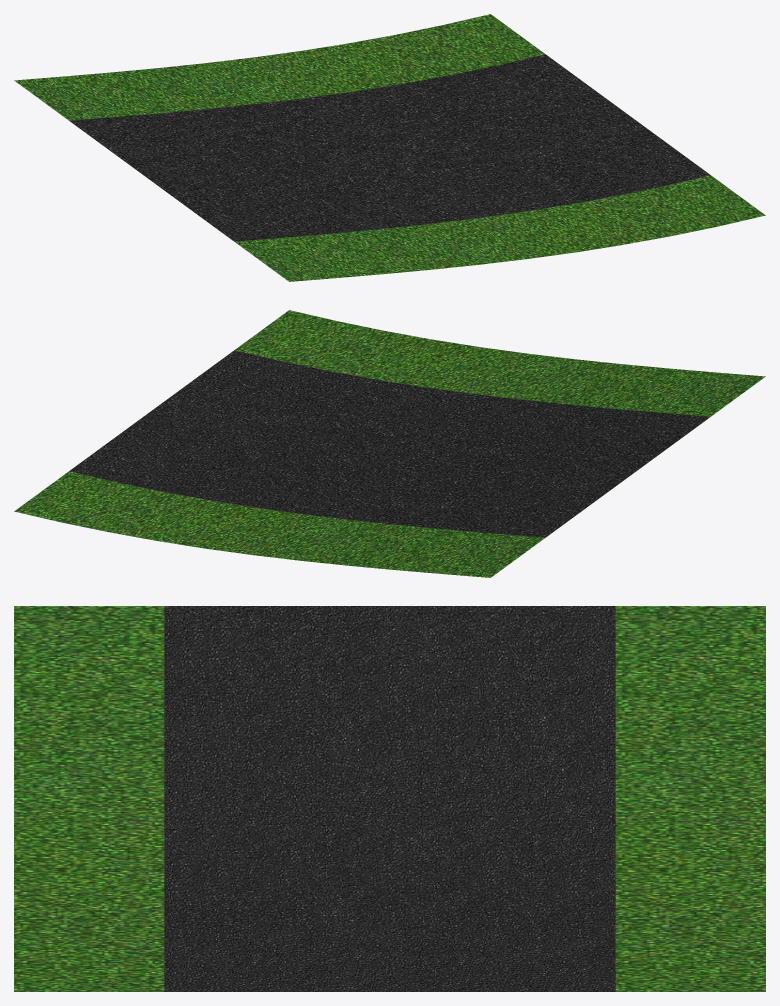
Rendered from track_ramp.obj.
3 renders of one model, top to bottom at view 1: azimuth 30°, elevation 25°; view 2: azimuth 150°, elevation 25°; view 3: azimuth 270°, elevation 25°, orthographic. The views are drawn at different scales.
Visible parts, largest first — view 1: Road_Plane.002, Grass.001_Plane.017, Grass_Plane.015; view 2: Road_Plane.002, Grass_Plane.015, Grass.001_Plane.017; view 3: Road_Plane.002, Grass.001_Plane.017, Grass_Plane.015.
Part boxes in pixels (x1,y1,x2,y2): Road_Plane.002: (69, 54, 710, 241); Grass.001_Plane.017: (234, 175, 765, 281); Grass_Plane.015: (14, 14, 545, 120); Road_Plane.002: (69, 350, 710, 537); Grass_Plane.015: (14, 471, 545, 577); Grass.001_Plane.017: (234, 310, 765, 416); Road_Plane.002: (164, 606, 615, 991); Grass.001_Plane.017: (14, 606, 164, 991); Grass_Plane.015: (615, 606, 765, 991).
Size of the model in its own units: 10 by 1 by 10.
